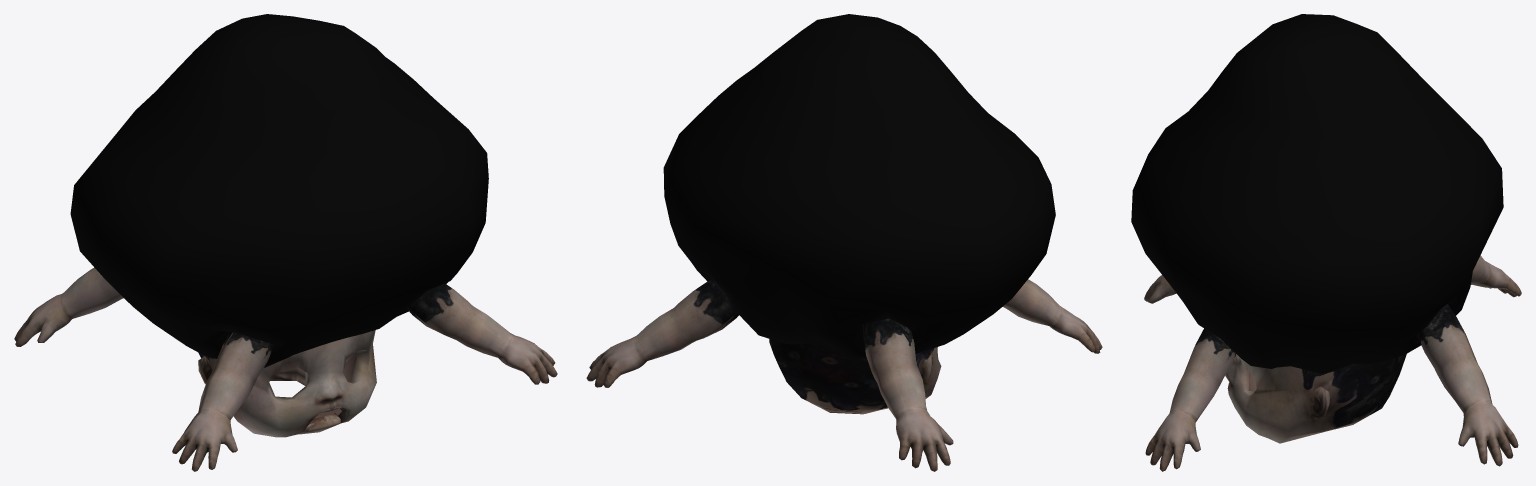
Rendered from bully-lod0.glb.
3 renders of one model, left to right at view 1: azimuth 30°, elevation 25°; view 2: azimuth 150°, elevation 25°; view 3: azimuth 270°, elevation 25°, orthographic. The views are drawn at different scales.
Parts seen in each view (by area): view 1: SK_Agile.001_SK_Agile; view 2: SK_Agile.001_SK_Agile; view 3: SK_Agile.001_SK_Agile.
Boxes of the visible parts, x1,y1,x2,y2 form: SK_Agile.001_SK_Agile: (14, 14, 557, 471); SK_Agile.001_SK_Agile: (586, 14, 1102, 471); SK_Agile.001_SK_Agile: (1131, 14, 1521, 471).
Size of the model in its own units: 3.74 by 3.62 by 3.24.
Materials: 2 (2 with a texture image).
